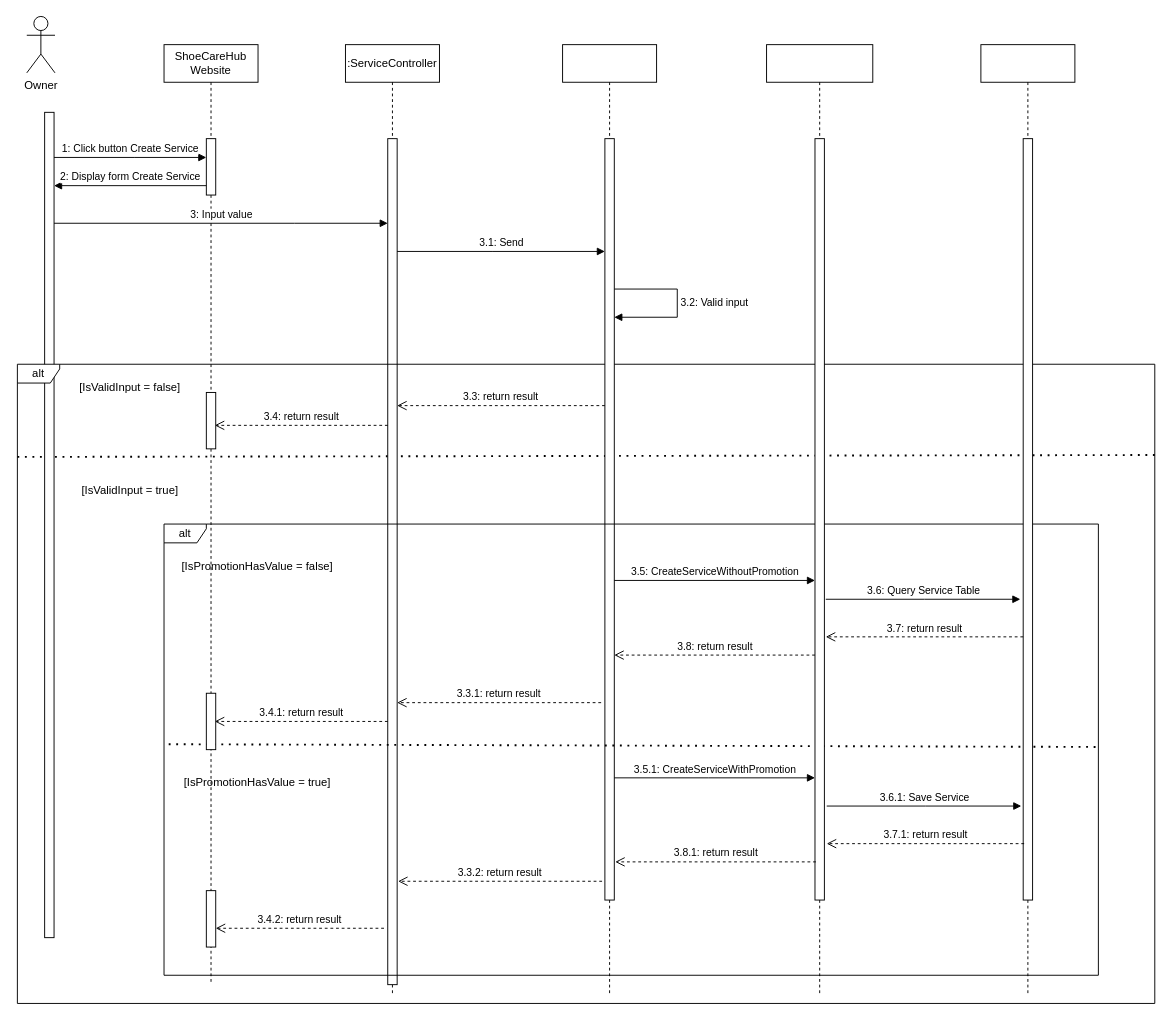
This 1175x1020 diagram has some shape labels left out. Each missing label, with the box of its shape:
:ServiceRepository: (766, 44, 873, 994)
:ServiceService: (562, 44, 657, 994)
Database: (980, 44, 1075, 994)
